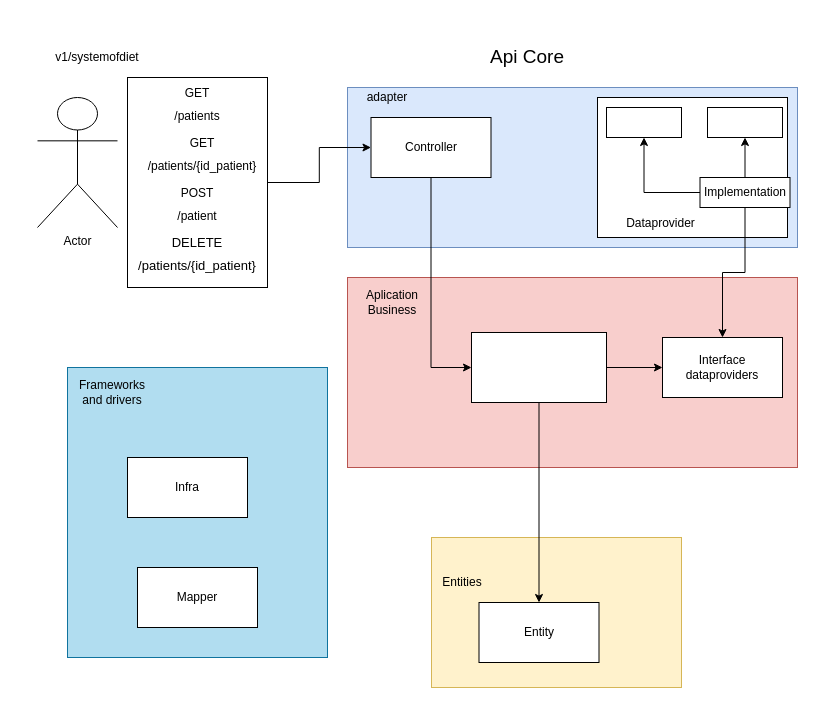
Image size: 815x705. Some labels were removed from this diagram. Here are the shapes that lost their labels. From the top down, the centre of each, then its label:
At (x=644, y=122): "Entity DataProvider".
At (x=744, y=122): "repository".
At (x=538, y=367): "Usecase".
